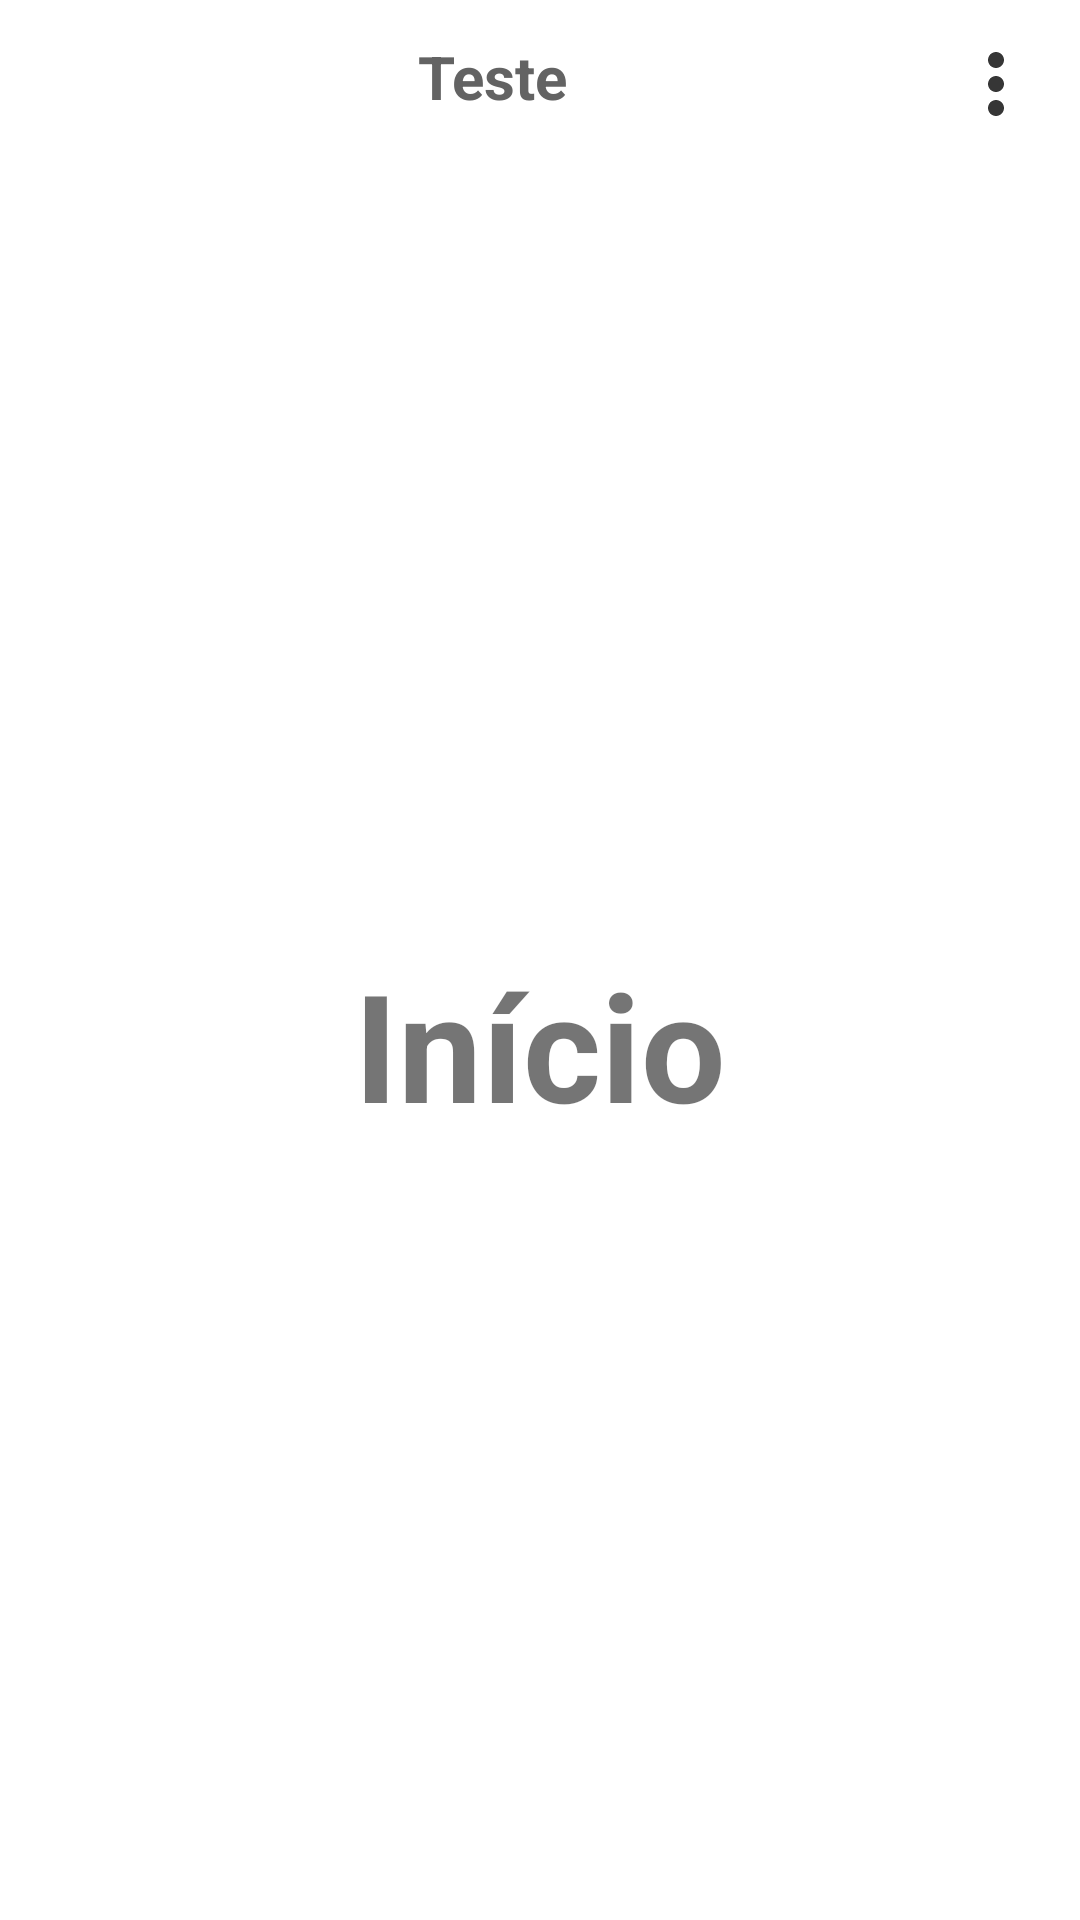

Icon click points for this 1080w x 1920h phone screenshot, format (x,y):
more: (996,84)
